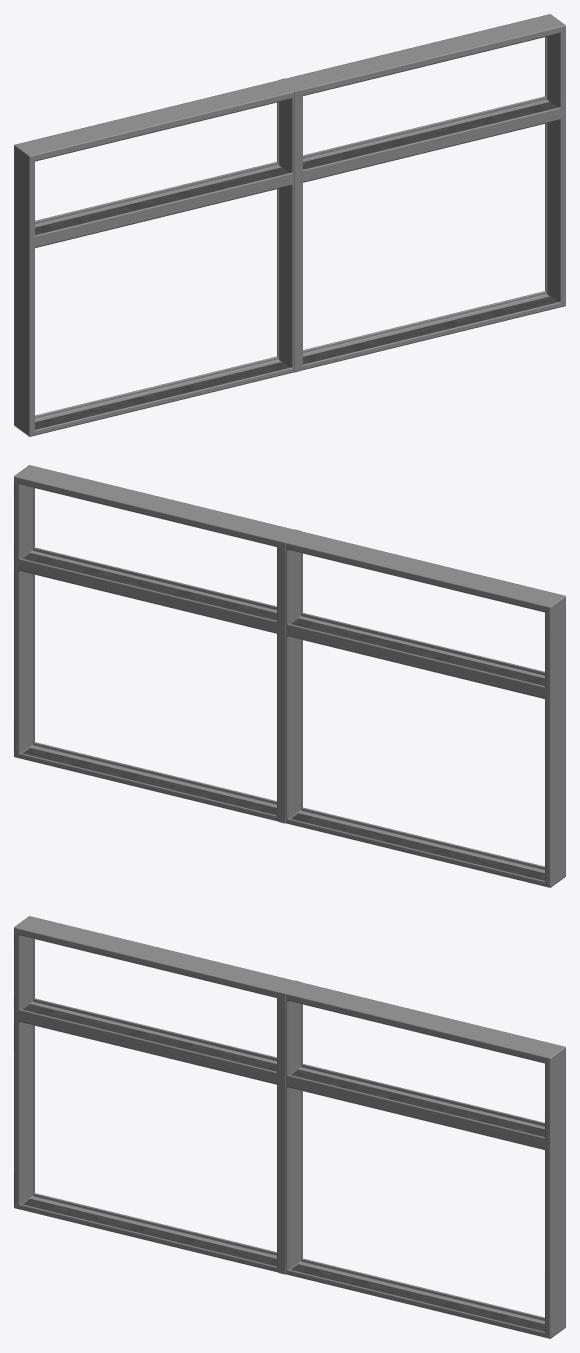
Rendered from Windows_01_Frame_Snaps014.FBX.
3 renders of one model, top to bottom at view 1: azimuth 30°, elevation 25°; view 2: azimuth 150°, elevation 25°; view 3: azimuth 330°, elevation 25°, orthographic.
Parts seen in each view (by area): view 1: Windows_01_Frame_LOD00; view 2: Windows_01_Frame_LOD00; view 3: Windows_01_Frame_LOD00.
Part boxes in pixels (bbox=[...]): Windows_01_Frame_LOD00: bbox=[14, 14, 565, 436]; Windows_01_Frame_LOD00: bbox=[14, 465, 565, 887]; Windows_01_Frame_LOD00: bbox=[14, 916, 565, 1338].
Size of what is drawn, in the model's own units: 400 by 200 by 21.
Materials: 2 (1 with a texture image).
